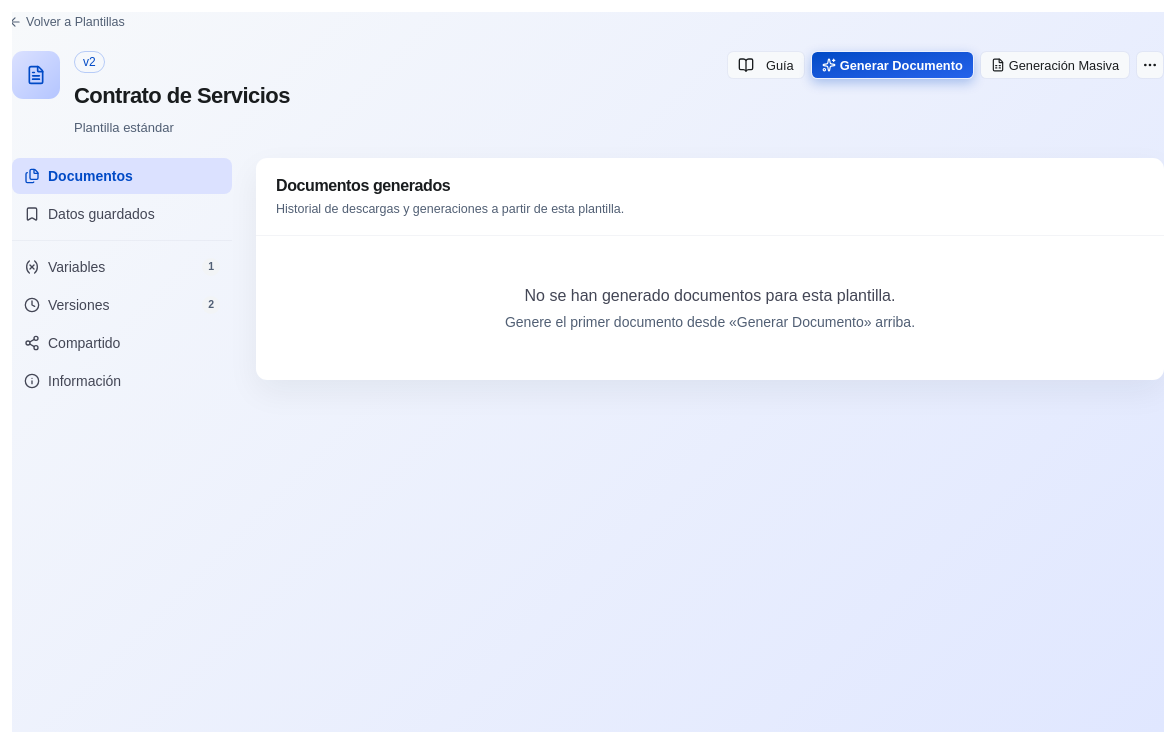
Test: TemplateDetail — related documents per version › renders the related-files sublist under a version that has files
Expected: the heading "Contrato de Servicios" is shown, [74, 79, 290, 112]
Click the button "Versiones 2": (122, 305) [12, 287, 232, 323]
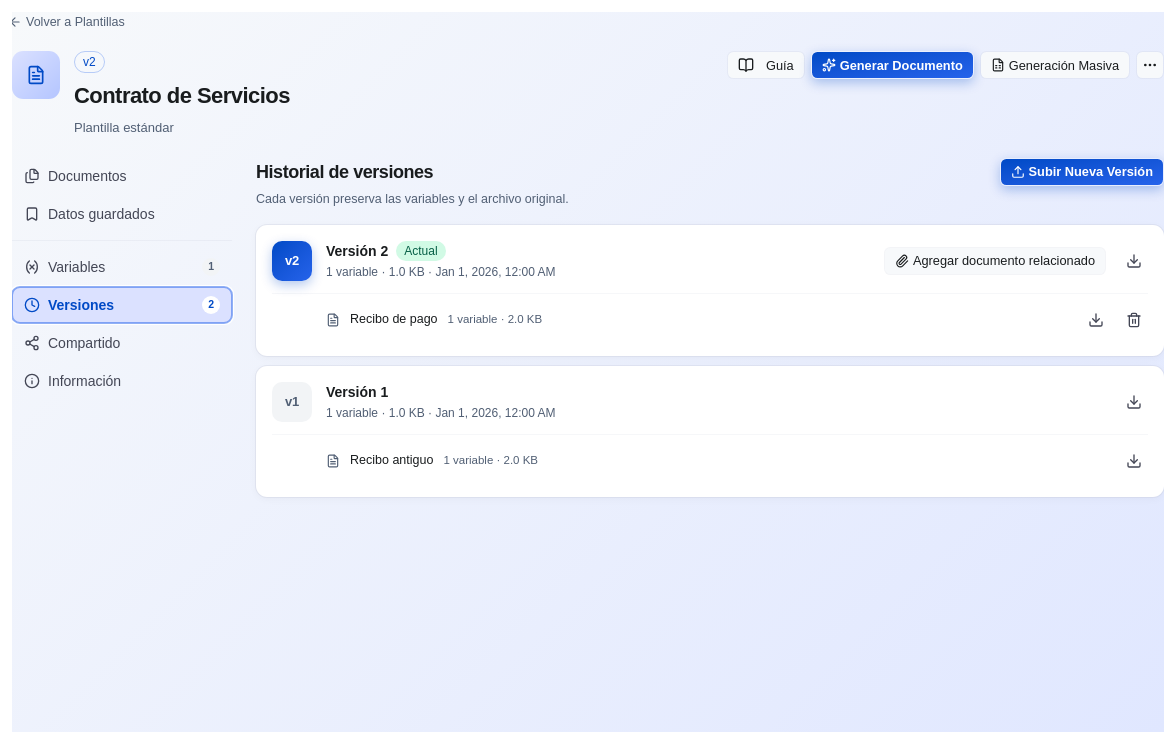
Result: the text "Recibo de pago" is shown at [350, 310, 438, 329]
Result: the text "Recibo antiguo" is shown at [350, 451, 433, 470]
Result: the text "1 variable · 2.0 KB" is shown 2 times at [448, 311, 542, 328]; [443, 452, 538, 469]
